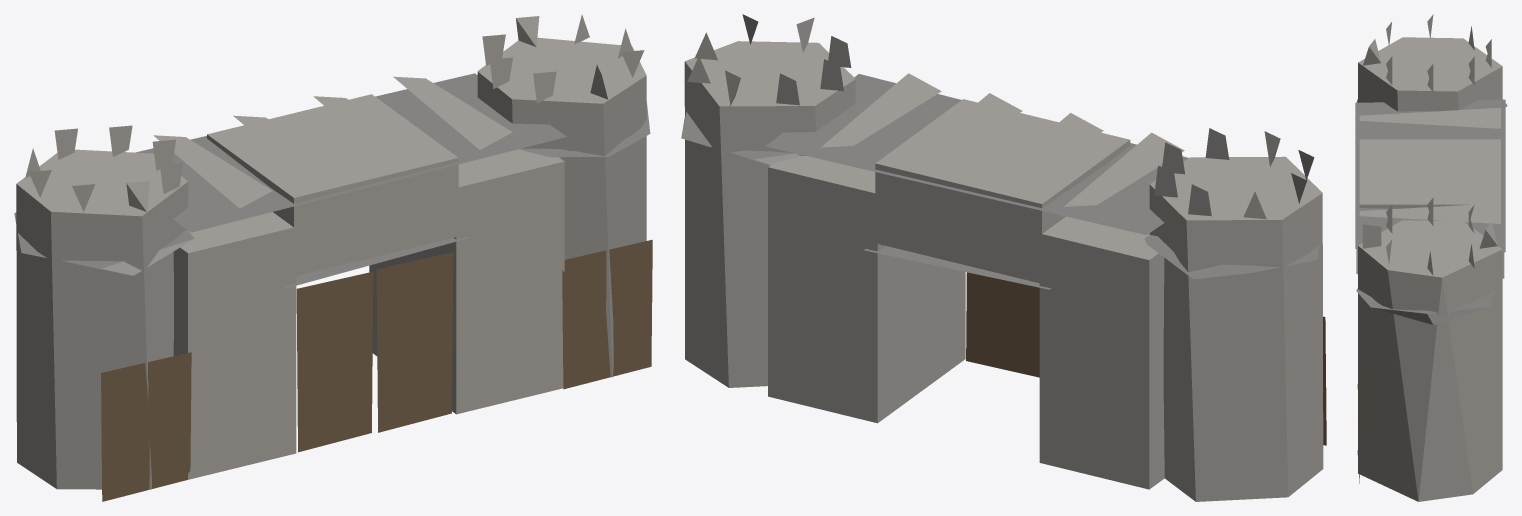
The model's file is gatehouse_lod.glb.
The picture shows the model from 3 angles, left to right: view 1: azimuth 30°, elevation 25°; view 2: azimuth 150°, elevation 25°; view 3: azimuth 270°, elevation 25°; orthographic projection. The views are drawn at different scales.
Parts seen in each view (by area): view 1: gatehouse_lod; view 2: gatehouse_lod; view 3: gatehouse_lod.
Part boxes in pixels (box(x1,y1,x2,y2)): gatehouse_lod: box(14, 14, 652, 501); gatehouse_lod: box(681, 14, 1326, 501); gatehouse_lod: box(1355, 14, 1507, 501).
Size of the model in its own units: 13.23 by 6.14 by 3.45.
